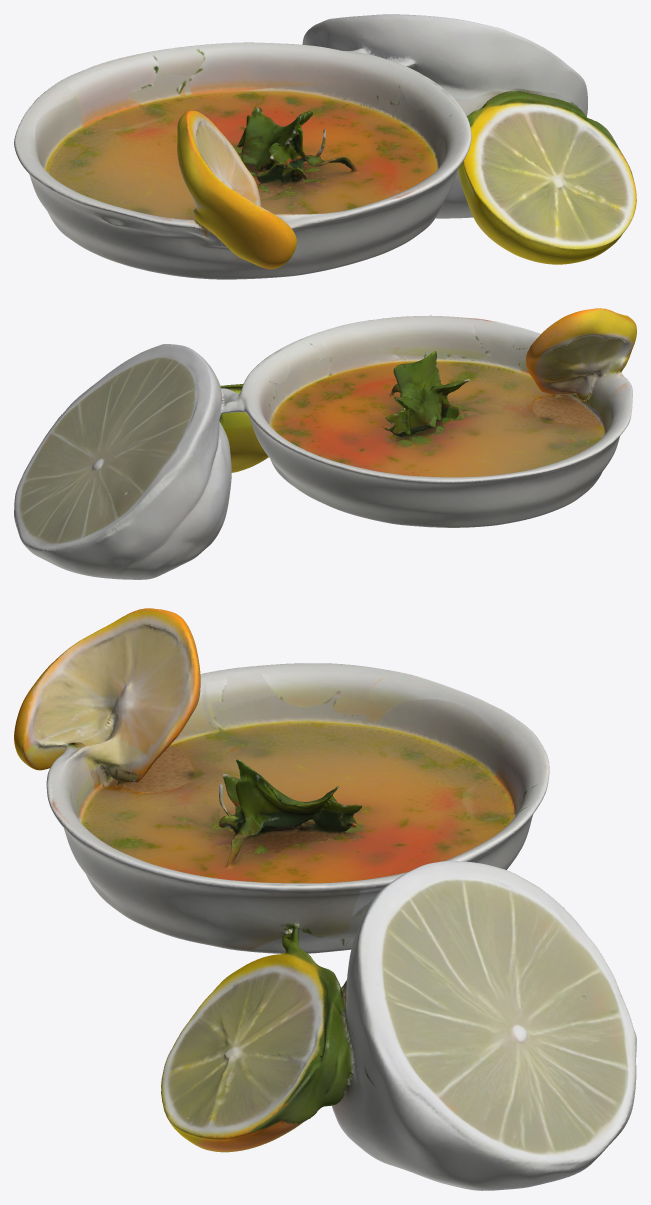
File: LEMON-CORIANDER.glb
3 renders of one model, top to bottom at view 1: azimuth 30°, elevation 25°; view 2: azimuth 150°, elevation 25°; view 3: azimuth 270°, elevation 25°, orthographic. The views are drawn at different scales.
Bounding box in the file's own units: 1.99 × 0.8378 × 1.54.
1 material, 1 textured.
